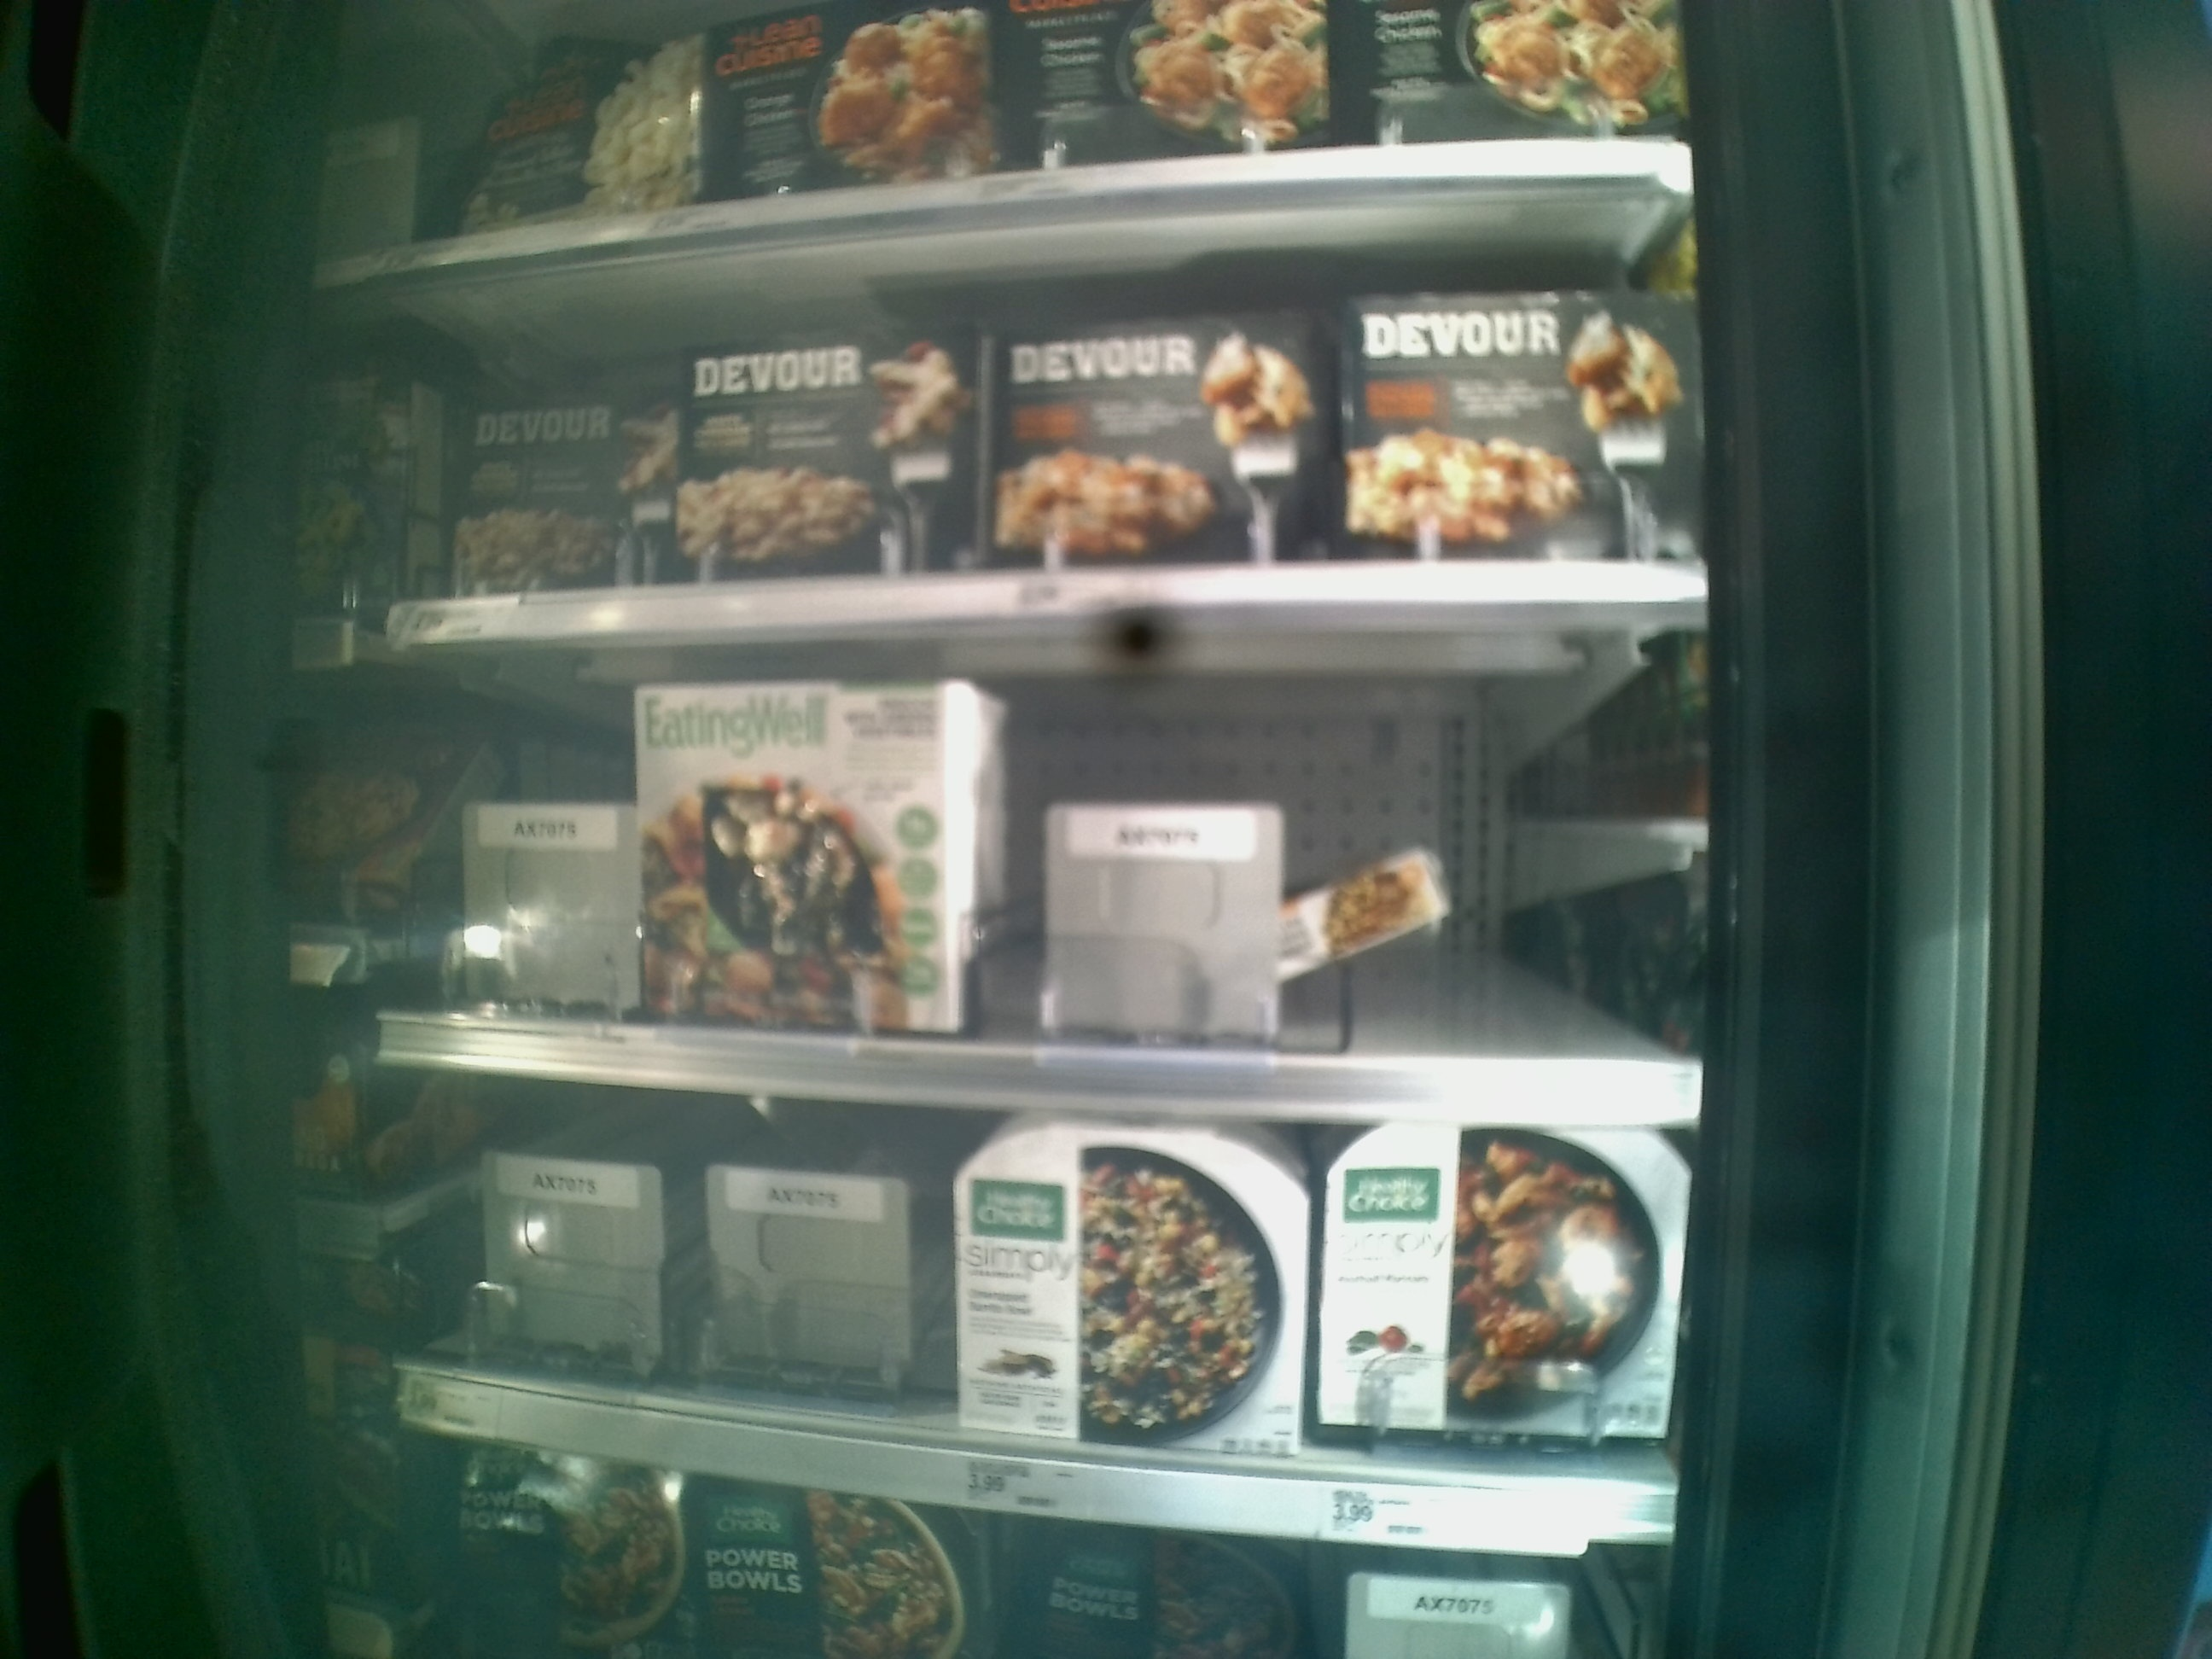shelf: (383, 598, 1714, 1140), (369, 1070, 1691, 1561), (334, 174, 1712, 627)
